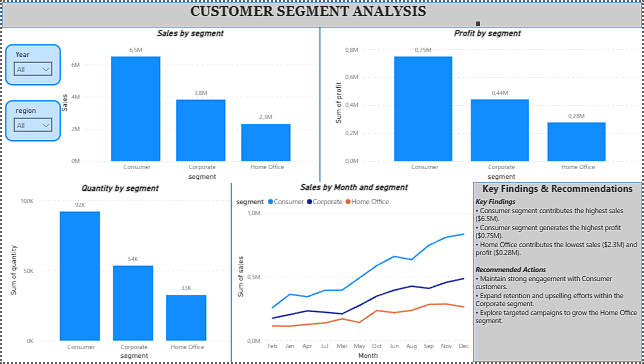

What the dashboard file says about the page in this screenshot:
{"tool":"powerbi","page":{"name":"Page 3 — Customer Segment Analysis","canvas":[1280,720],"ordinal":3},"visuals":[{"type":"columnChart","fields":{"Category":["store.segment"],"Y":["Sum(store.sales)"]},"box":[112.3,52.3,527.7,309.2],"z":0},{"type":"columnChart","title":"Profit by segment","fields":{"Category":["store.segment"],"Y":["Sum(store.profit)"]},"box":[660,52.3,620,309.2],"z":1000},{"type":"columnChart","title":"Quantity by segment","fields":{"Category":["store.segment"],"Y":["Sum(store.quantity)"]},"box":[10.8,361.5,450.8,358.5],"z":2000},{"type":"lineChart","title":"Sales by Month and segment","fields":{"Category":["dim_date.Month"],"Series":["store.segment"],"Y":["Sum(store.sales)"]},"box":[463.3,360,478.3,360],"z":3000},{"type":"shape","box":[941.7,360,338.3,360],"z":4000},{"type":"textbox","title":"Key Findings & Recommendations","box":[941.7,360,338.3,360],"z":5000},{"type":"shape","box":[0,0,1280,52.3],"z":6000},{"type":"textbox","title":"CUSTOMER SEGMENT ANALYSIS","box":[263.1,3.1,696.9,49.2],"z":7000},{"type":"slicer","fields":{"Values":["dim_location.region"]},"box":[5.8,196.9,112.3,83.1],"z":8000},{"type":"slicer","fields":{"Values":["dim_date.Year"]},"box":[5.8,83.1,112.3,83.1],"z":9000},{"type":"shape","box":[632.3,50.8,7.7,309.2],"z":10000},{"type":"shape","box":[453.8,361.5,9.2,358.5],"z":11000}]}

Visuals, with their boxes in screenshot pixels (x1, y1, x2, y2), scaled from the page's 1280x720 canvas onto the 644x364 screenshot:
columnChart - store.segment x Sum(store.sales): x1=57, y1=26, x2=322, y2=183
"Profit by segment" columnChart: x1=332, y1=26, x2=643, y2=183
"Quantity by segment" columnChart: x1=5, y1=183, x2=232, y2=363
"Sales by Month and segment" lineChart: x1=233, y1=182, x2=474, y2=363
shape: x1=474, y1=182, x2=643, y2=363
"Key Findings & Recommendations" textbox: x1=474, y1=182, x2=643, y2=363
shape: x1=0, y1=0, x2=643, y2=26
"CUSTOMER SEGMENT ANALYSIS" textbox: x1=132, y1=2, x2=483, y2=26
slicer - dim_location.region: x1=3, y1=100, x2=59, y2=142
slicer - dim_date.Year: x1=3, y1=42, x2=59, y2=84
shape: x1=318, y1=26, x2=322, y2=182
shape: x1=228, y1=183, x2=233, y2=363
